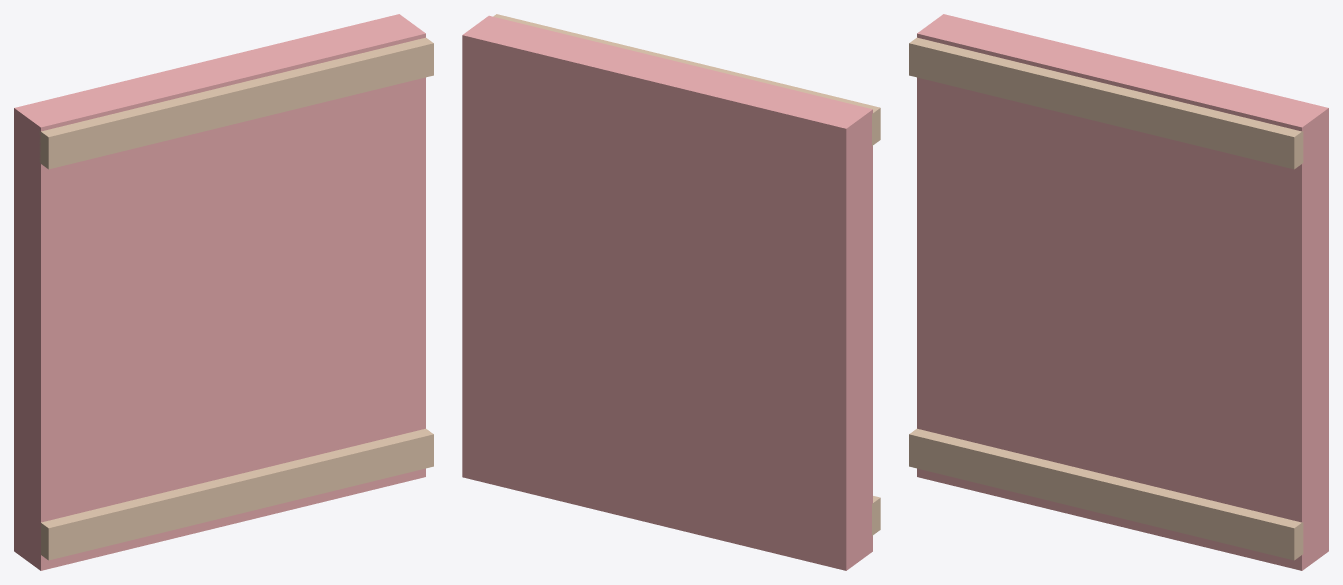
Rendered from wall-brick-solid.glb.
3 views of the same model, side by side, from view 1: azimuth 30°, elevation 25°; view 2: azimuth 150°, elevation 25°; view 3: azimuth 330°, elevation 25° (orthographic).
Parts seen in each view (by area): view 1: panel, top_trim, trim; view 2: panel, top_trim; view 3: panel, top_trim, trim.
Boxes of the visible parts, x1=… form: panel: x1=14, y1=14, x2=425, y2=570; top_trim: x1=39, y1=37, x2=433, y2=169; trim: x1=41, y1=428, x2=433, y2=560; panel: x1=462, y1=15, x2=872, y2=570; top_trim: x1=493, y1=14, x2=880, y2=145; panel: x1=917, y1=14, x2=1328, y2=570; top_trim: x1=909, y1=37, x2=1303, y2=169; trim: x1=909, y1=428, x2=1303, y2=560.
Bounding box in the file's own units: 1 × 1.1 × 0.155.
